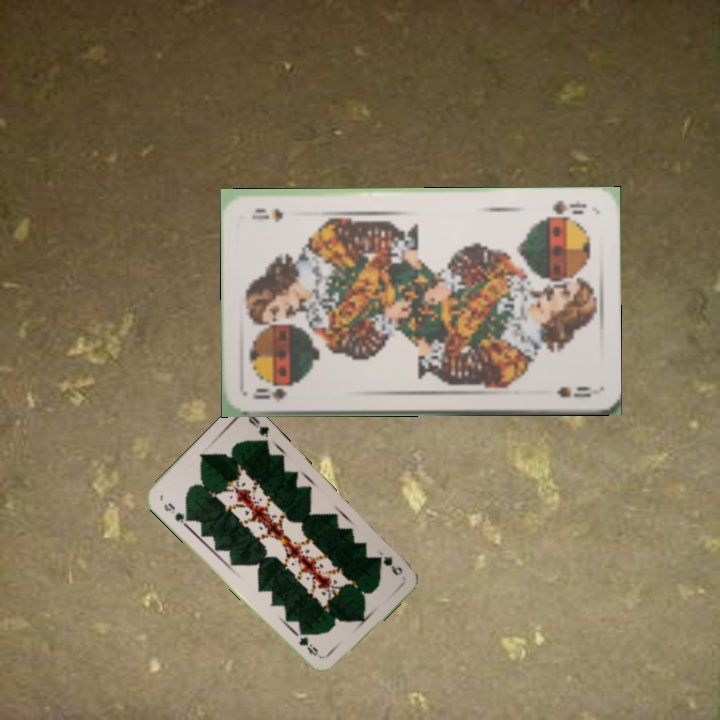G9: (373, 546, 405, 578), (160, 498, 193, 529)
SO: (542, 196, 589, 221), (249, 381, 296, 405)
